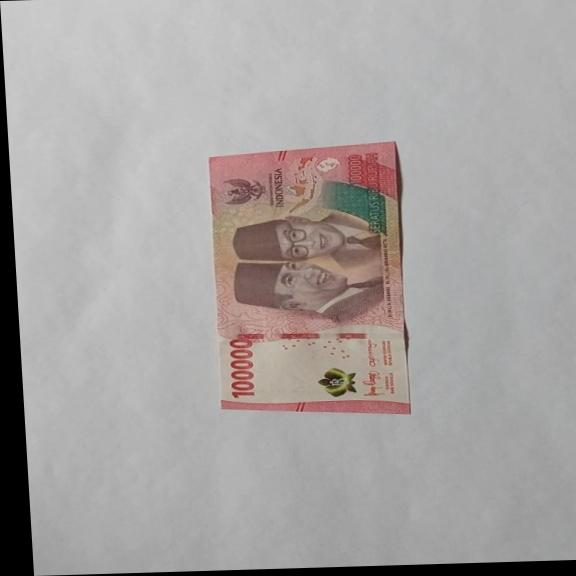Kertas: (202, 139, 415, 419), (224, 337, 258, 398)
